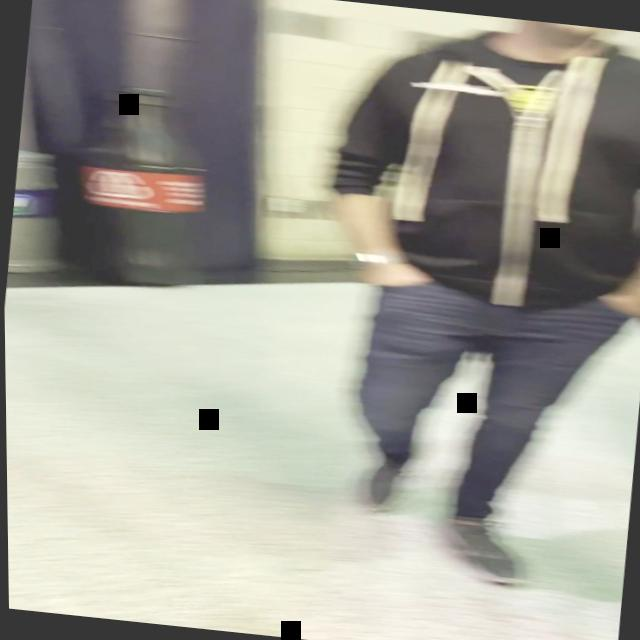NO-Mask: (512, 18, 619, 41)
